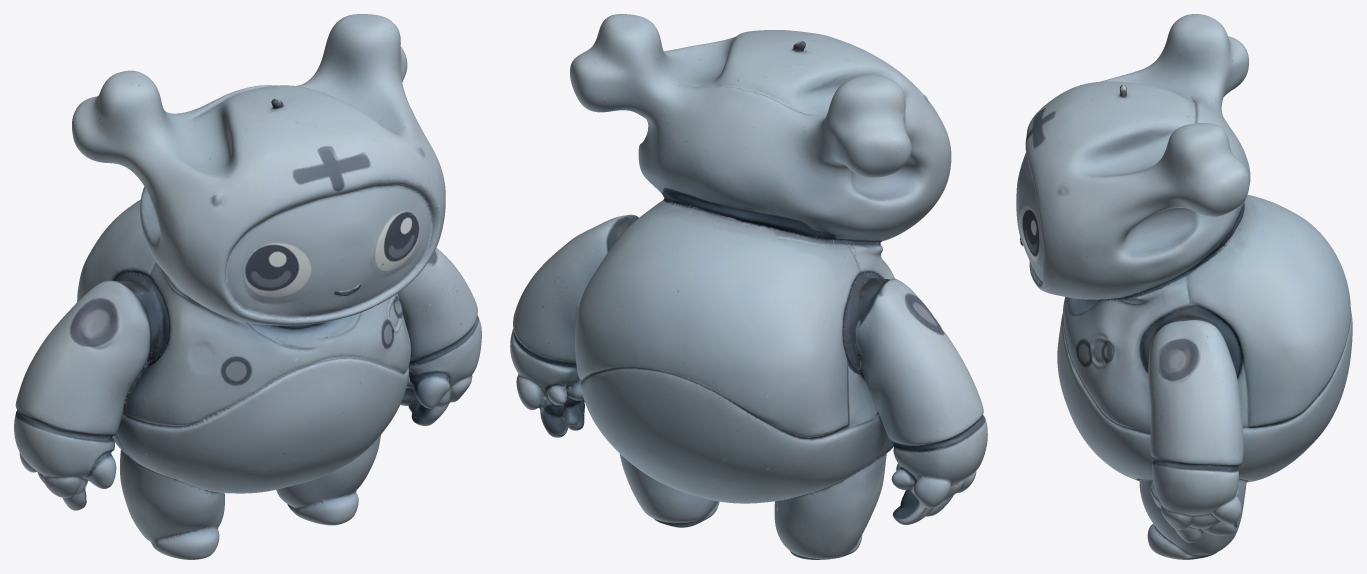
Rendered from bot-transformed.glb.
The picture shows the model from 3 angles, left to right: view 1: azimuth 30°, elevation 25°; view 2: azimuth 150°, elevation 25°; view 3: azimuth 270°, elevation 25°; orthographic projection. The views are drawn at different scales.
Bounding box in the file's own units: 1.99 × 2 × 1.37.
Materials: 1 (1 with a texture image).
